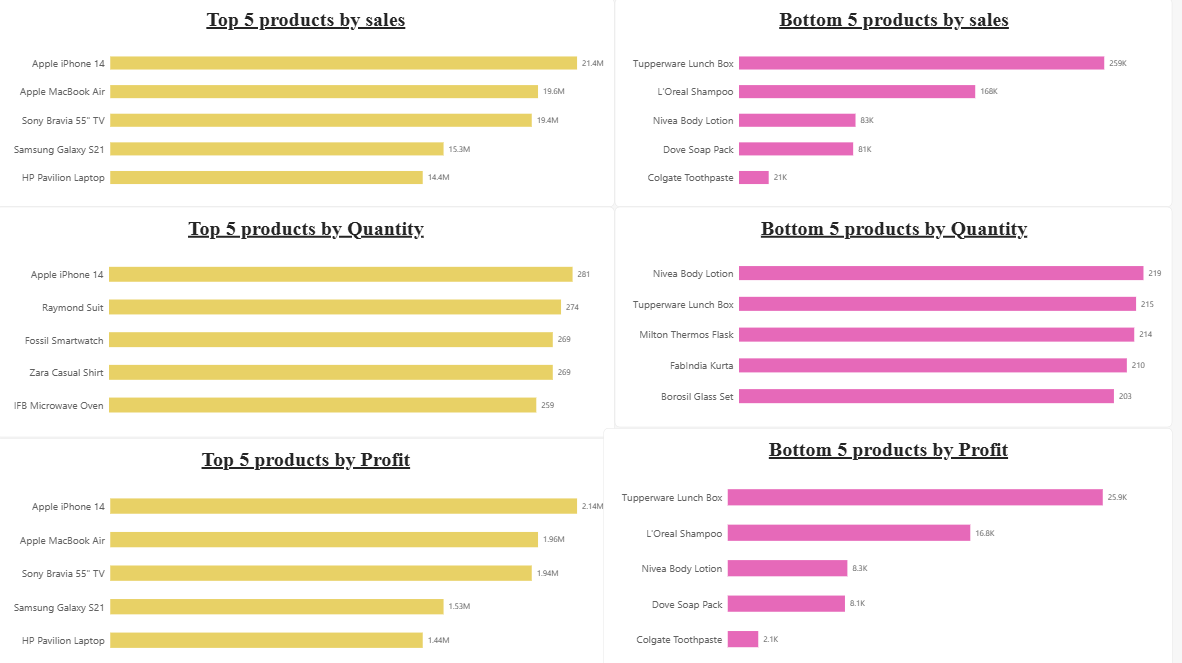

What the dashboard file says about the page in this screenshot:
{"tool":"powerbi","page":{"name":"Top/bottom 5 Analysis","canvas":[1920,1080],"ordinal":1},"visuals":[{"type":"barChart","title":"Top 5 products by sales","fields":{"Category":["Dim Product.Product Name"],"Y":["Sum(Fact Table.net sales  )"]},"box":[0,0,989.9,334.8],"z":0},{"type":"barChart","title":"Bottom 5 products by sales","fields":{"Category":["Dim Product.Product Name"],"Y":["Sum(Fact Table.net sales  )"]},"box":[989.9,0,892.2,334.8],"z":1000},{"type":"barChart","title":"Top 5 products by Quantity","fields":{"Category":["Dim Product.Product Name"],"Y":["Sum(Fact Table.Units Sold)"]},"box":[0,334.8,989.9,369.2],"z":2000},{"type":"barChart","title":"Bottom 5 products by Quantity","fields":{"Category":["Dim Product.Product Name"],"Y":["Sum(Fact Table.Units Sold)"]},"box":[989.9,334.8,892.2,352.9],"z":3000},{"type":"barChart","title":"Top 5 products by Profit","fields":{"Category":["Dim Product.Product Name"],"Y":["Sum(Fact Table.Profit)"]},"box":[0,704,989.9,376.4],"z":4000},{"type":"barChart","title":"Bottom 5 products by Profit","fields":{"Category":["Dim Product.Product Name"],"Y":["Sum(Fact Table.Profit)"]},"box":[971.8,687.7,910.3,392.7],"z":5000}]}

Visuals, with their boxes in screenshot pixels (x1, y1, x2, y2), scaled from the page's 1920x1080 canvas onto the 1182x663 screenshot:
"Top 5 products by sales" barChart: (x1=0, y1=0, x2=609, y2=206)
"Bottom 5 products by sales" barChart: (x1=609, y1=0, x2=1159, y2=206)
"Top 5 products by Quantity" barChart: (x1=0, y1=206, x2=609, y2=432)
"Bottom 5 products by Quantity" barChart: (x1=609, y1=206, x2=1159, y2=422)
"Top 5 products by Profit" barChart: (x1=0, y1=432, x2=609, y2=662)
"Bottom 5 products by Profit" barChart: (x1=598, y1=422, x2=1159, y2=662)
